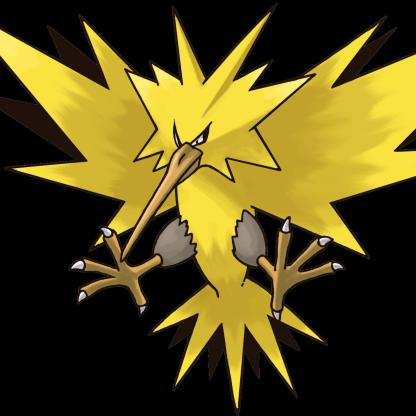Zapdos: (1, 14, 416, 401)
